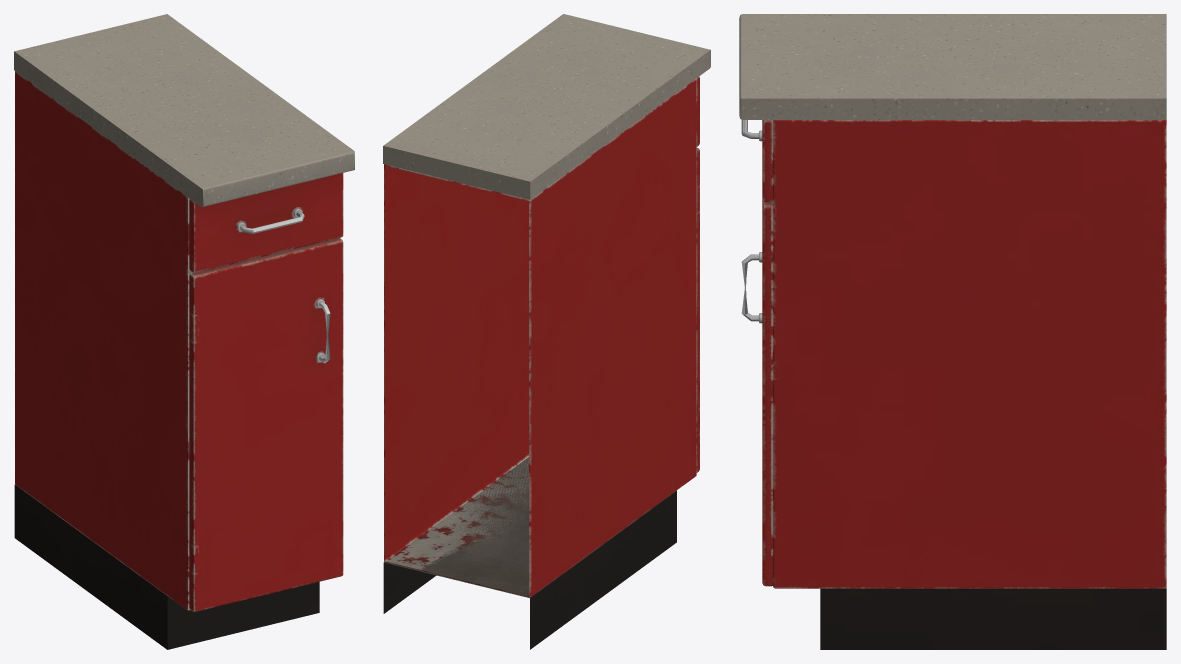
File: kit_base_30_red.glb
The picture shows the model from 3 angles, left to right: view 1: azimuth 30°, elevation 25°; view 2: azimuth 150°, elevation 25°; view 3: azimuth 270°, elevation 25°; orthographic projection. The views are drawn at different scales.
Parts seen in each view (by area): view 1: kit_base_30_red; view 2: kit_base_30_red; view 3: kit_base_30_red.
Boxes of the visible parts, x1=… form: kit_base_30_red: x1=14, y1=14, x2=354, y2=649; kit_base_30_red: x1=383, y1=14, x2=710, y2=649; kit_base_30_red: x1=739, y1=14, x2=1166, y2=649.
Bounding box in the file's own units: 0.298 × 0.905 × 0.635.
Materials: 1 (1 with a texture image).
